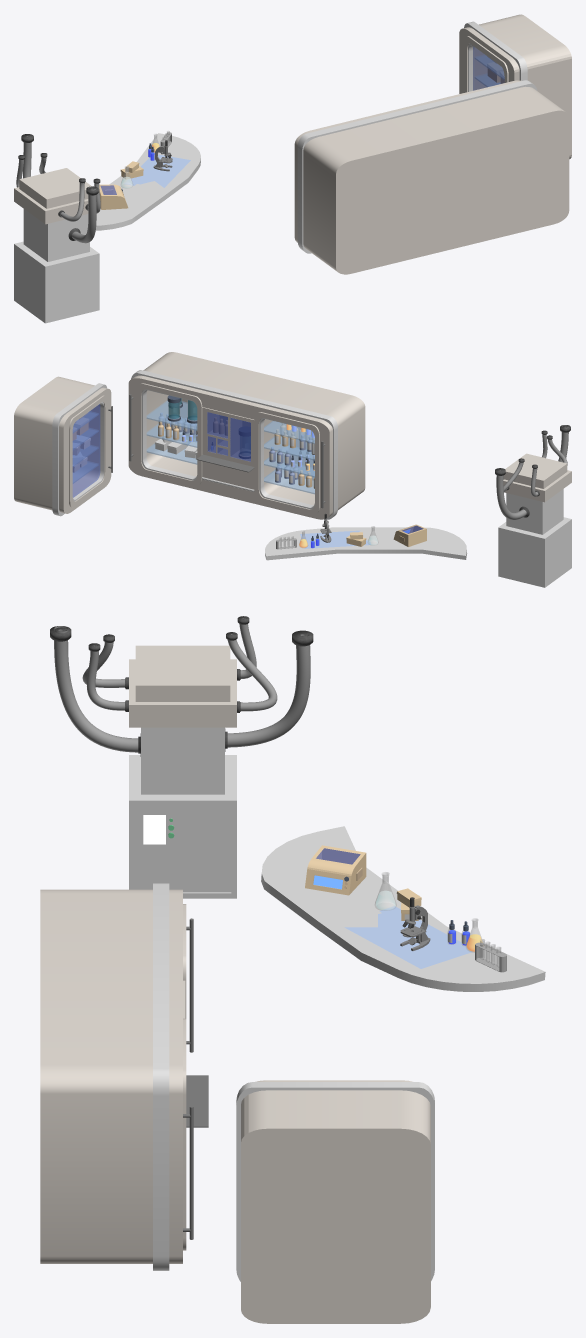
Rendered from labo_chimie+Cuveisolation.fbx.
3 views of the same model, one above another, from view 1: azimuth 30°, elevation 25°; view 2: azimuth 150°, elevation 25°; view 3: azimuth 270°, elevation 25° (orthographic). The views are drawn at different scales.
Visible parts, largest first — view 1: placard, placard_petit, Cuve_Bas, labo_chimie.002, Socle_Haaut, Vitre_cuve, Tubes_Cuve_iso, plan_de_travail, boite_detude; view 2: placard, placard_petit, Cuve_Bas, labo_chimie.002, Socle_Haaut, Vitre_cuve, Tubes_Cuve_iso, bouteilles_remplissage, bouteille_remplissage2, plan_de_travail, boites.005, boite_detude (+2 smaller); view 3: placard, placard_petit, labo_chimie.002, Cuve_Bas, Socle_Haaut, Tubes_Cuve_iso, Vitre_cuve, plan_de_travail, boite_detude, microscope.
Part boxes in pixels (x1,y1,x2,y2): placard: (294,80,569,274); placard_petit: (459,14,571,159); Cuve_Bas: (14,241,99,323); labo_chimie.002: (95,133,200,230); Socle_Haaut: (14,168,91,224); Vitre_cuve: (23,209,89,261); Tubes_Cuve_iso: (16,134,100,243); plan_de_travail: (124,154,190,187); boite_detude: (99,184,128,209); placard: (128,352,365,519); placard_petit: (14,376,112,516); Cuve_Bas: (498,517,571,587); labo_chimie.002: (265,527,467,560); Socle_Haaut: (503,453,571,502); Vitre_cuve: (506,489,563,534); Tubes_Cuve_iso: (495,425,570,519); bouteilles_remplissage: (269,422,314,488); bouteille_remplissage2: (158,413,197,442); plan_de_travail: (300,530,370,548); boites.005: (155,431,197,459); boite_detude: (393,524,426,546); placard: (40,883,208,1270); placard_petit: (236,1080,434,1323); labo_chimie.002: (261,826,545,991); Cuve_Bas: (129,755,236,898); Socle_Haaut: (129,645,236,727); Tubes_Cuve_iso: (50,616,313,756); Vitre_cuve: (141,727,224,794); plan_de_travail: (344,906,472,968); boite_detude: (305,845,366,895); microscope: (400,897,430,950).
Bounding box in the file's own units: 1257 × 570 × 312.
